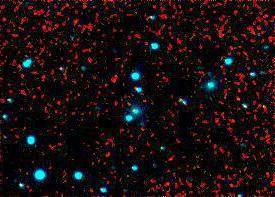star: (117, 89, 147, 119)
